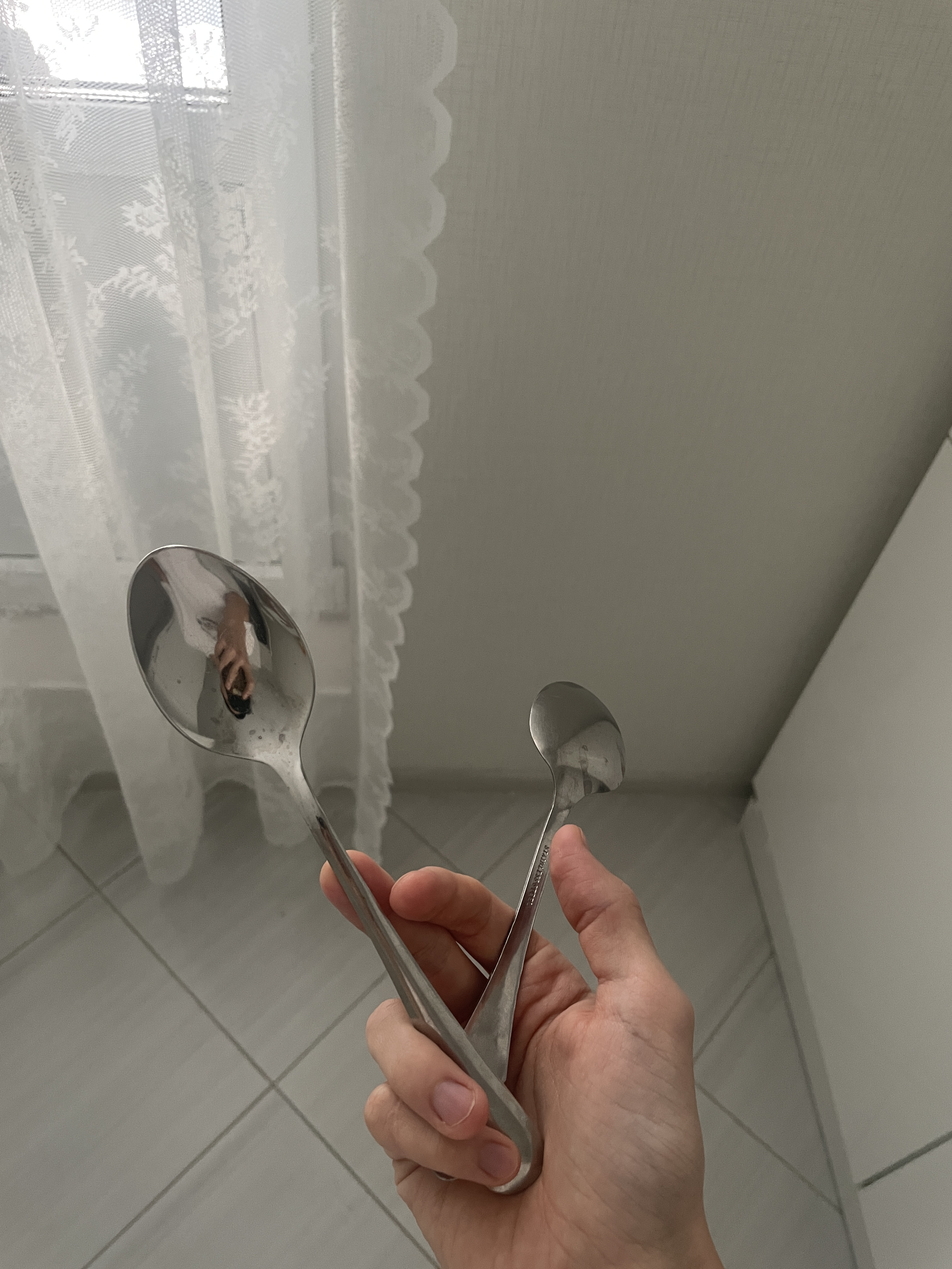spoon: (128, 546, 541, 1193), (465, 682, 625, 1081)
